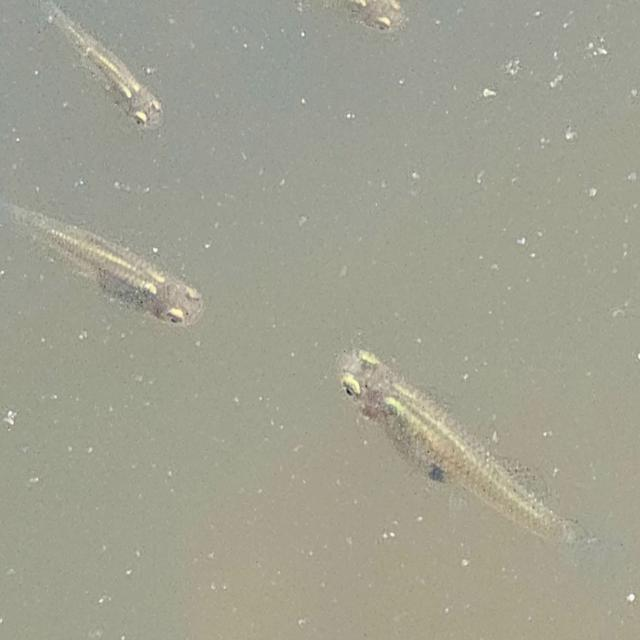Sivrisinek Baligi: (337, 346, 587, 550), (0, 189, 198, 328), (15, 0, 165, 125)
